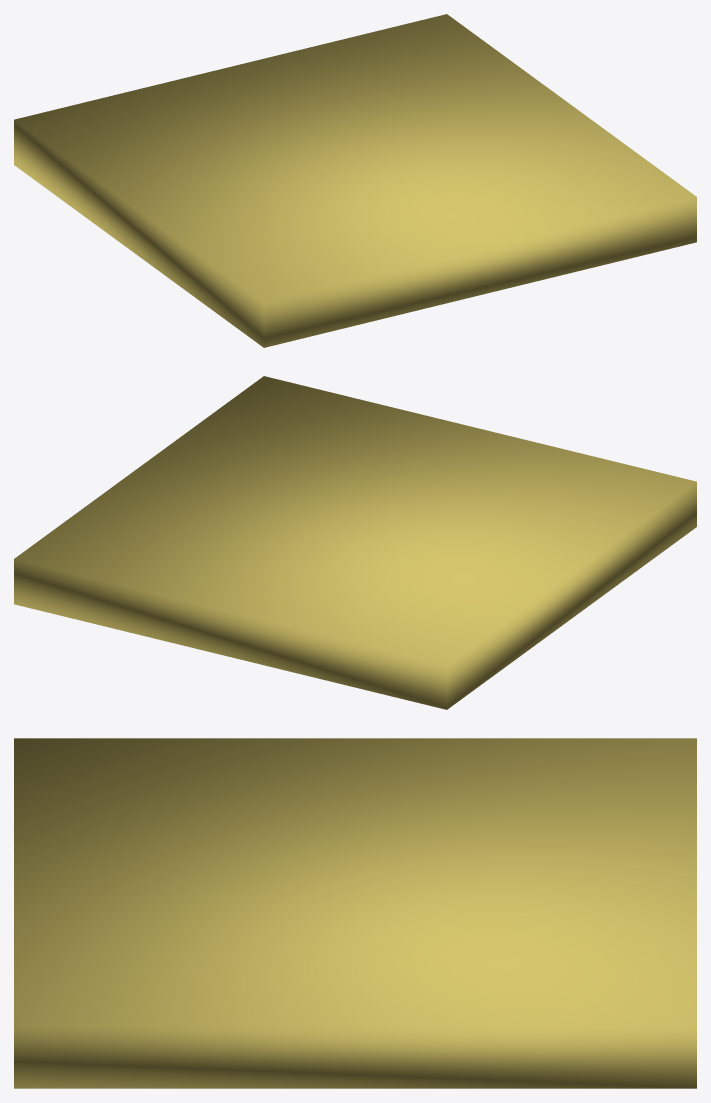
The model's file is terrain_grass_autumn.glb.
3 views of the same model, one above another, from view 1: azimuth 30°, elevation 25°; view 2: azimuth 150°, elevation 25°; view 3: azimuth 270°, elevation 25° (orthographic). The views are drawn at different scales.
Visible parts, largest first — view 1: tile; view 2: tile; view 3: tile.
Boxes of the visible parts, bbox=[...] form: tile: bbox=[14, 14, 696, 347]; tile: bbox=[14, 376, 696, 709]; tile: bbox=[14, 738, 696, 1088].
Size of the model in its own units: 1 by 0.1 by 1.
